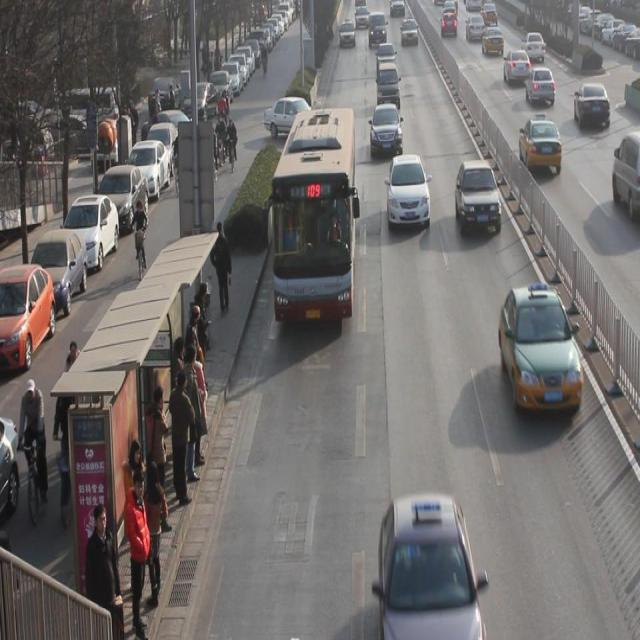car: (379, 489, 484, 640), (500, 284, 583, 413), (454, 161, 502, 235), (387, 153, 430, 226), (519, 114, 562, 173), (263, 97, 314, 139), (370, 103, 402, 158), (574, 83, 611, 130), (526, 65, 556, 106), (504, 49, 531, 83), (520, 31, 546, 64), (482, 24, 504, 55), (466, 14, 486, 43), (377, 41, 395, 70), (401, 17, 419, 46), (340, 18, 355, 46), (442, 12, 458, 37)
truck: (611, 130, 640, 220), (378, 62, 401, 111), (369, 12, 386, 44)
van: (268, 108, 354, 322)
